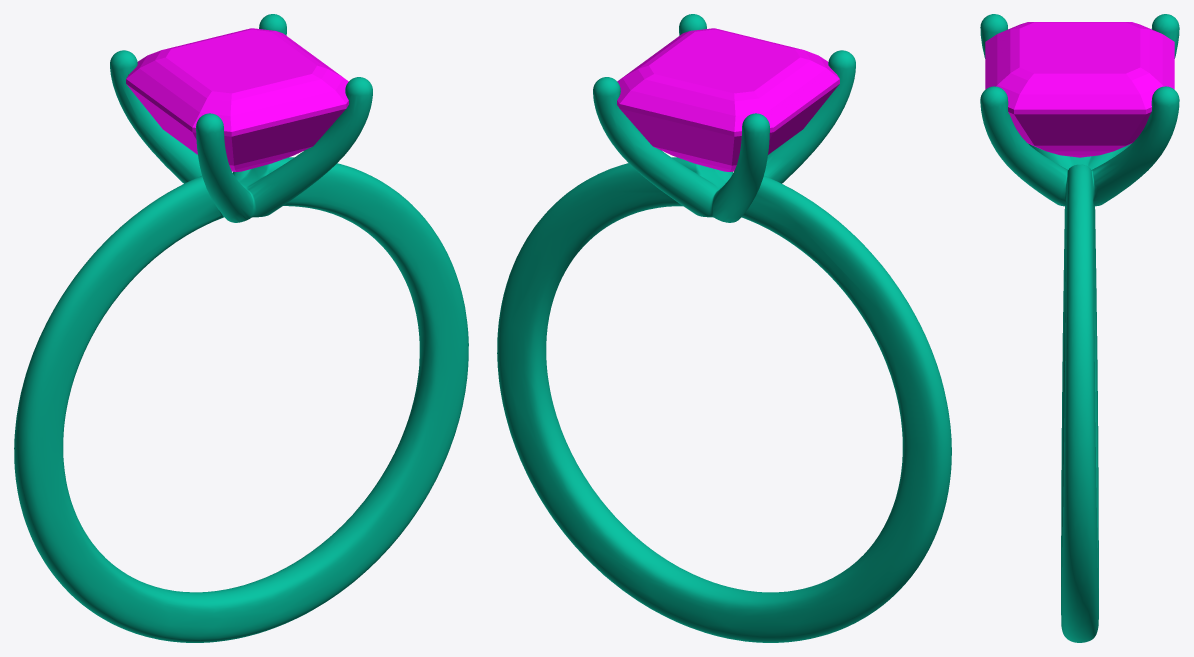
File: BE14112_AS_200ct_RENDER.glb
3 renders of one model, left to right at view 1: azimuth 30°, elevation 25°; view 2: azimuth 150°, elevation 25°; view 3: azimuth 270°, elevation 25°, orthographic.
Visible parts, largest first — view 1: Metal 01, CS_Diamond_Asscher; view 2: Metal 01, CS_Diamond_Asscher; view 3: Metal 01, CS_Diamond_Asscher.
Part boxes in pixels (x1,y1,x2,y2): Metal 01: (14,14,468,642); CS_Diamond_Asscher: (126,28,348,171); Metal 01: (497,14,951,642); CS_Diamond_Asscher: (617,28,839,171); Metal 01: (980,14,1179,642); CS_Diamond_Asscher: (985,22,1174,157).
Size of the model in its own units: 20.51 by 24.99 by 7.9.
